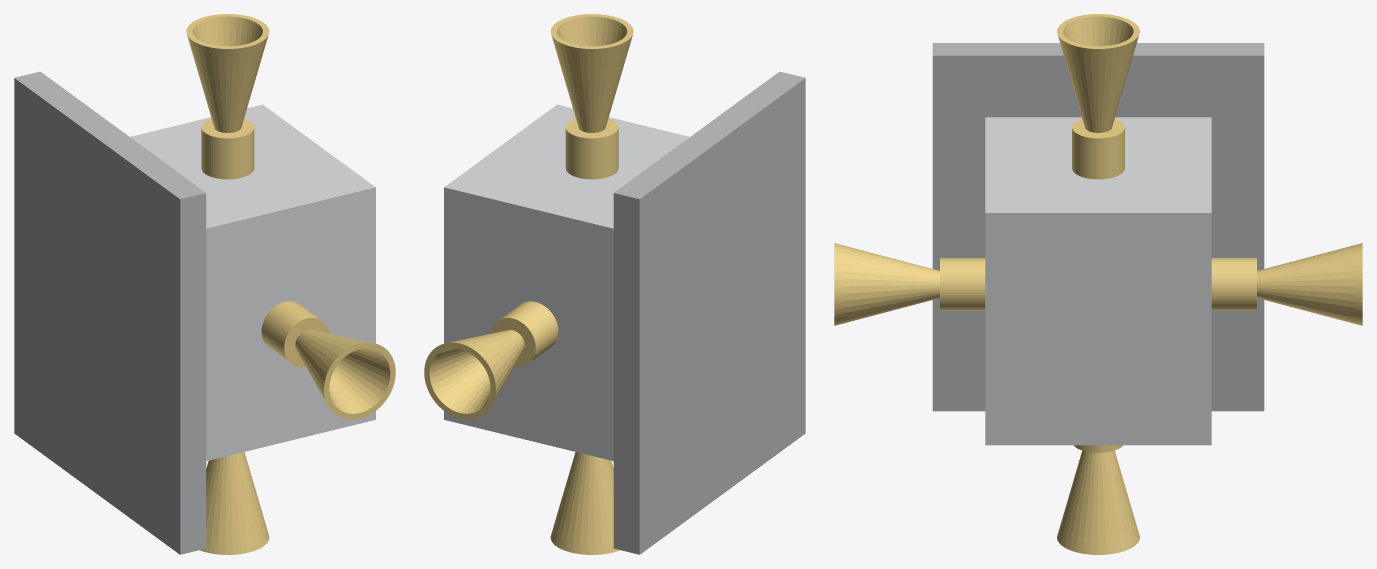
The model's file is prop00_rcs_quad.glb.
3 renders of one model, left to right at view 1: azimuth 30°, elevation 25°; view 2: azimuth 150°, elevation 25°; view 3: azimuth 270°, elevation 25°, orthographic.
Visible parts, largest first — view 1: mount_plate, housing, thrusters; view 2: mount_plate, housing, thrusters; view 3: housing, mount_plate, thrusters.
Boxes of the visible parts, x1,y1,x2,y2 form: mount_plate: [14, 71, 206, 554]; housing: [130, 104, 375, 460]; thrusters: [186, 14, 395, 554]; mount_plate: [613, 71, 805, 554]; housing: [444, 104, 689, 460]; thrusters: [424, 14, 633, 554]; housing: [985, 117, 1211, 445]; mount_plate: [932, 43, 1264, 411]; thrusters: [834, 14, 1362, 554].
Size of the model in its own units: 0.34 by 0.74 by 0.7.
